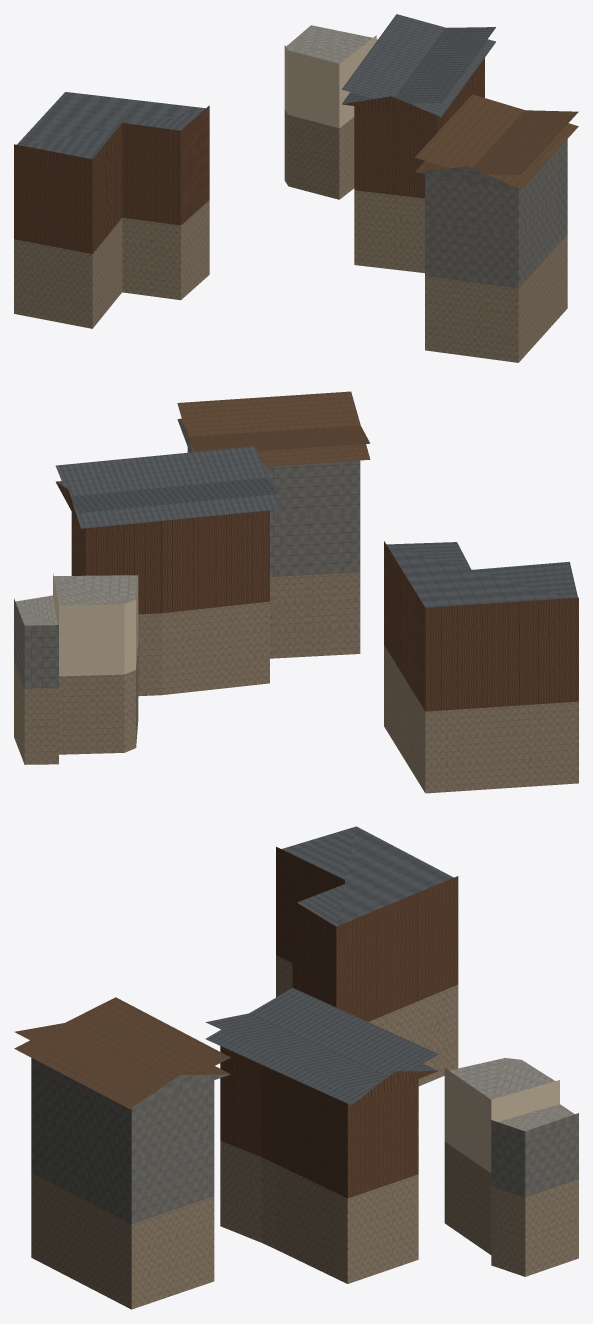
File: bld_c37_-12_540.gltf
3 renders of one model, top to bottom at view 1: azimuth 30°, elevation 25°; view 2: azimuth 150°, elevation 25°; view 3: azimuth 270°, elevation 25°, orthographic. The views are drawn at different scales.
Visible parts, largest first — view 1: bld_c37_-12_540; view 2: bld_c37_-12_540; view 3: bld_c37_-12_540.
Boxes of the visible parts, x1=… form: bld_c37_-12_540: x1=14, y1=14, x2=578, y2=362; bld_c37_-12_540: x1=14, y1=391, x2=578, y2=793; bld_c37_-12_540: x1=14, y1=826, x2=578, y2=1309.
Bounding box in the file's own units: 34.32 × 14 × 30.54.
Materials: 10 (10 with a texture image).
